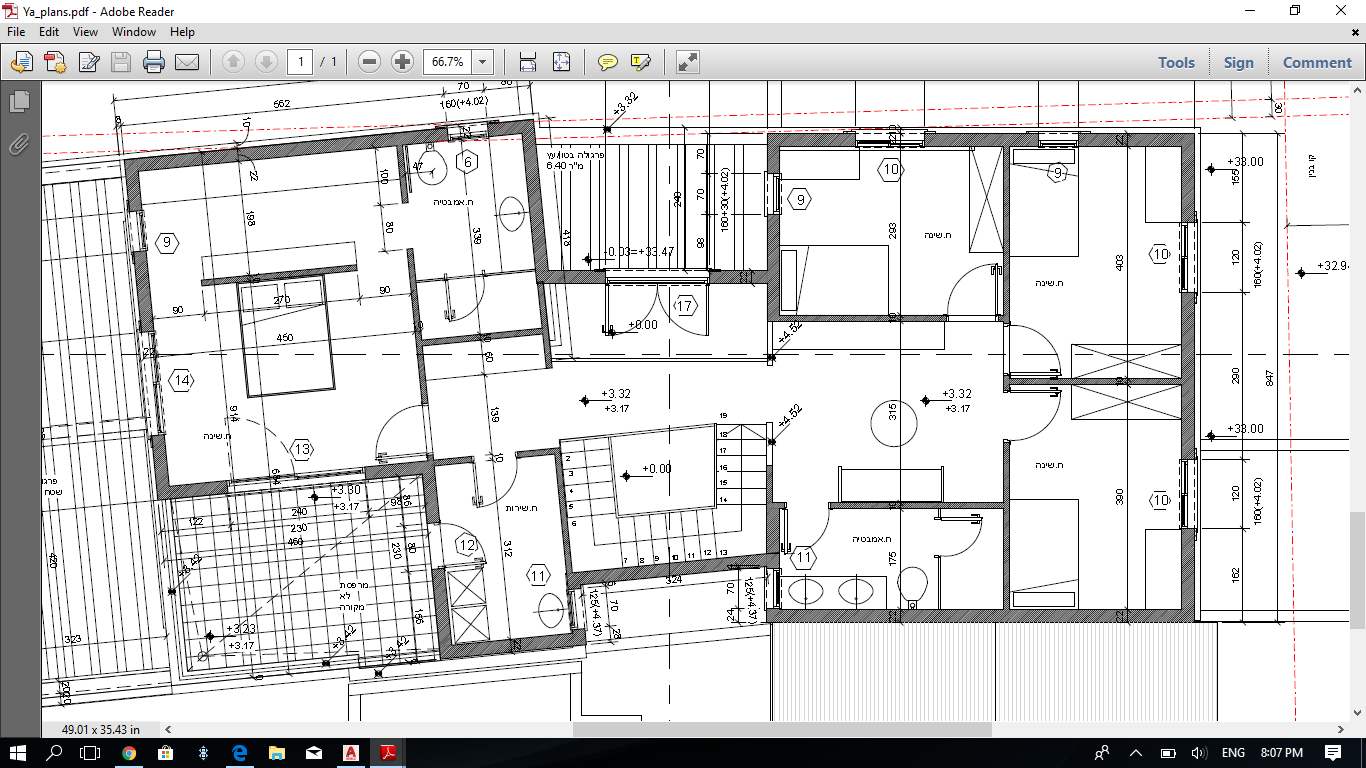door: (944, 259, 1000, 312), (465, 469, 533, 511), (1017, 319, 1065, 377), (1018, 387, 1068, 441), (942, 514, 993, 566), (441, 284, 498, 324)
wall: (774, 610, 1183, 623), (1182, 294, 1193, 463), (924, 134, 1032, 146), (1003, 442, 1010, 621), (1181, 529, 1194, 621), (768, 217, 778, 318), (830, 502, 992, 508), (537, 270, 601, 284), (771, 316, 945, 321)
window: (605, 276, 710, 286), (1178, 220, 1190, 294), (1180, 457, 1191, 528), (770, 173, 782, 216), (1038, 138, 1079, 150)
